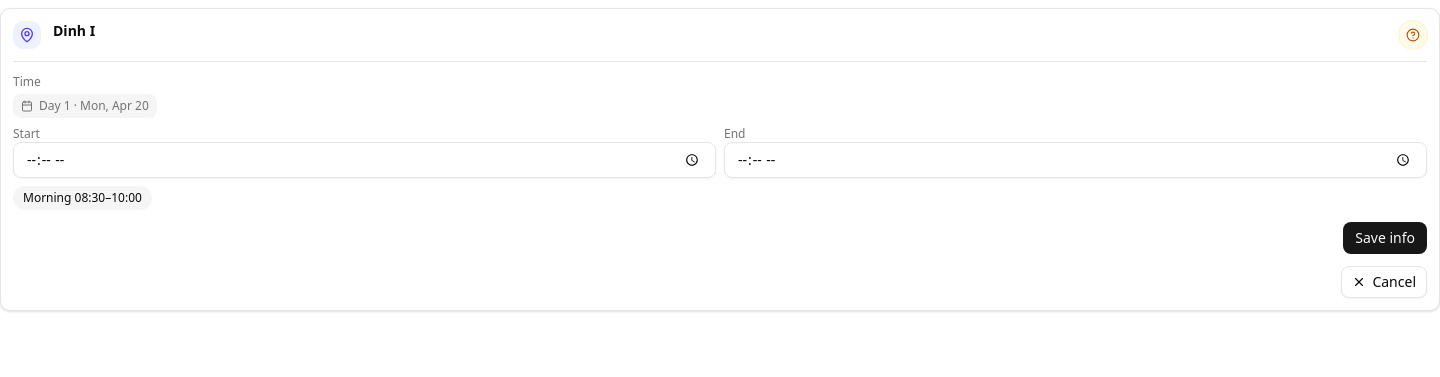
Test: AIActionCard › edits synthetic time range fields without losing entered values
Type "08:30" into the time field labelled "Start" at point(364, 160), box [13,142,716,178]
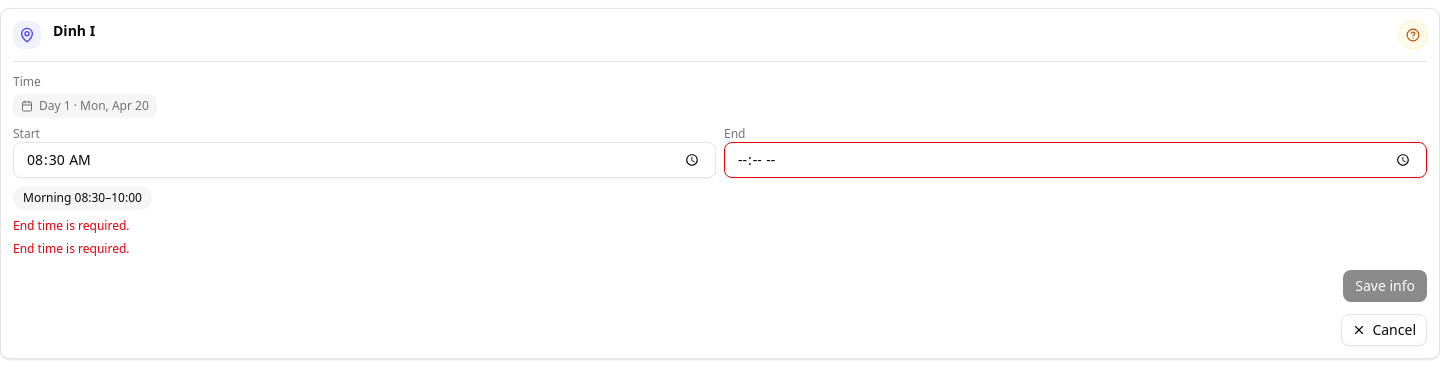
Type "10:00" into the time field labelled "End" at point(1076, 160), box [724,142,1427,178]
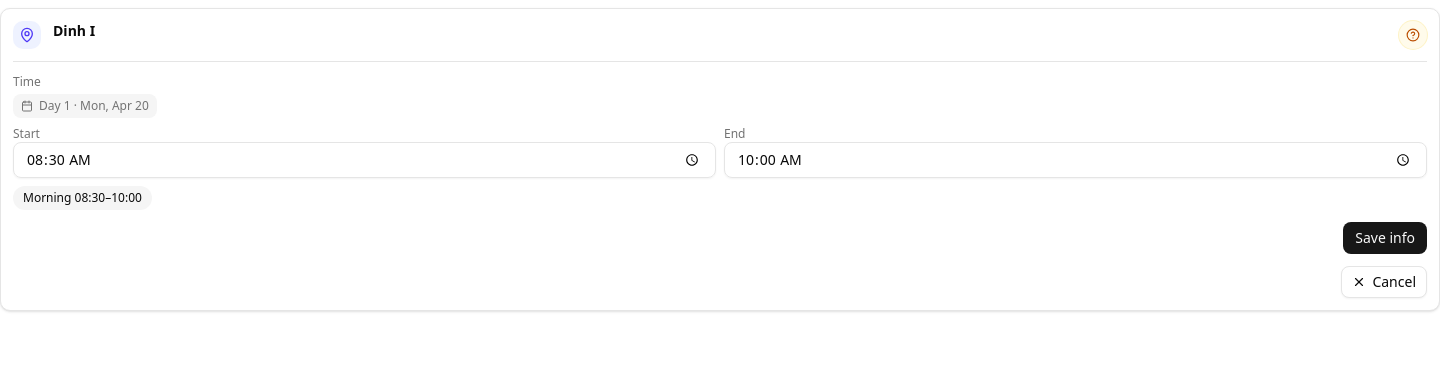
Click the button "Save info" at point(1385, 238), box [1343,222,1427,254]
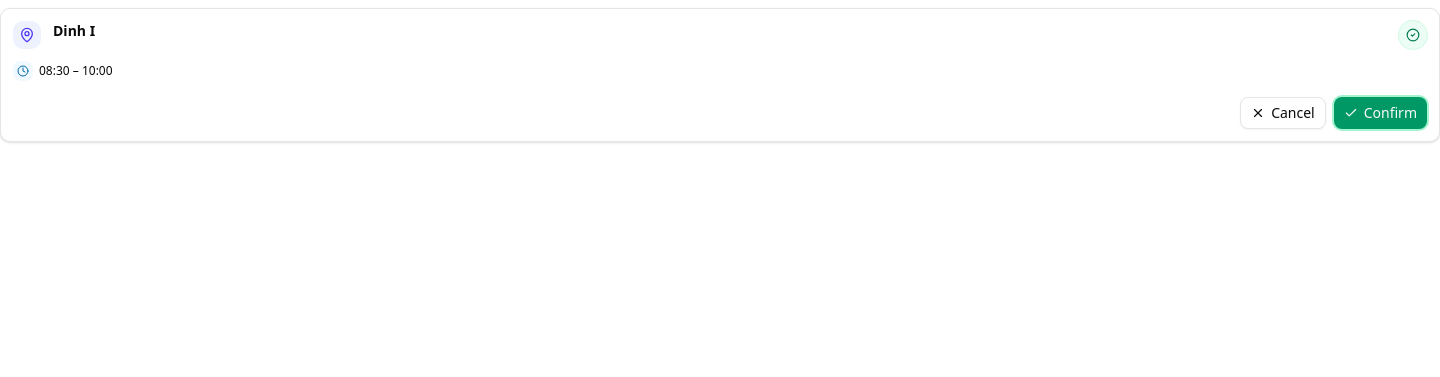
Expected: the picture named "Ready" is shown, [1399,21,1427,49]
